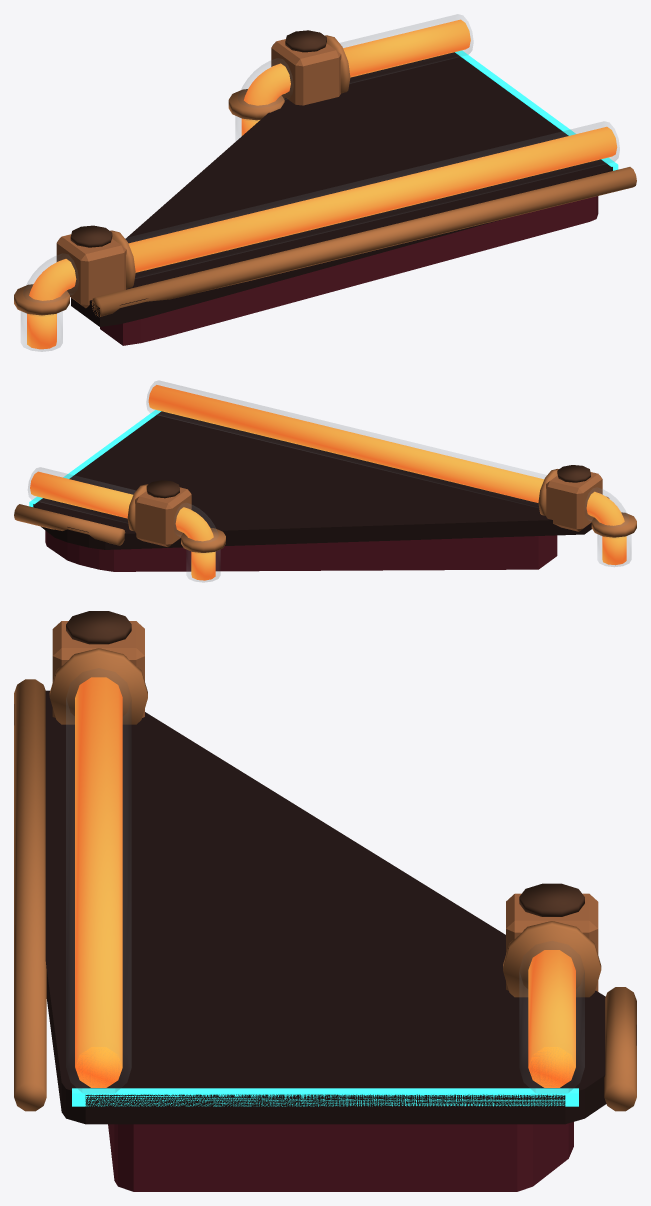
File: Pier_Angled_55.glb
3 views of the same model, one above another, from view 1: azimuth 30°, elevation 25°; view 2: azimuth 150°, elevation 25°; view 3: azimuth 270°, elevation 25° (orthographic). The views are drawn at different scales.
Visible parts, largest first — view 1: CP_Pier_Angled_55; view 2: CP_Pier_Angled_55; view 3: CP_Pier_Angled_55.
Part boxes in pixels (x1,y1,x2,y2): CP_Pier_Angled_55: [14, 14, 636, 351]; CP_Pier_Angled_55: [14, 381, 636, 582]; CP_Pier_Angled_55: [14, 611, 636, 1191].
Bounding box in the file's own units: 7.1 × 1.31 × 4.18.
